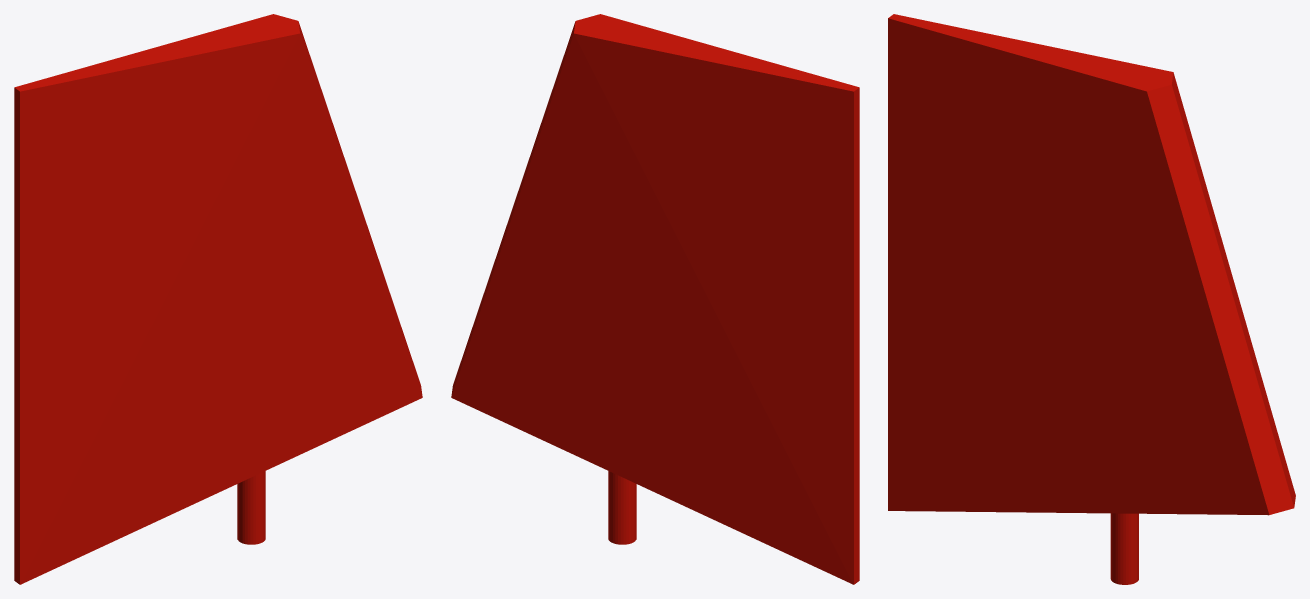
The model's file is red_fin.dae.
The picture shows the model from 3 angles, left to right: view 1: azimuth 30°, elevation 25°; view 2: azimuth 150°, elevation 25°; view 3: azimuth 330°, elevation 25°; orthographic projection.
Visible parts, largest first — view 1: Plane_004; view 2: Plane_004; view 3: Plane_004.
Part boxes in pixels (x1=…): Plane_004: x1=14, y1=14, x2=422, y2=584; Plane_004: x1=451, y1=14, x2=859, y2=584; Plane_004: x1=888, y1=14, x2=1295, y2=584.
Size of the model in its own units: 0.0618 by 0.00705 by 0.074.
